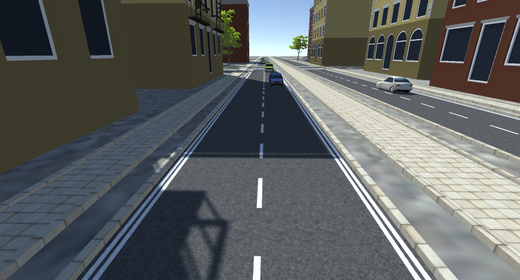centerstrip: (373, 85, 520, 139), (250, 75, 267, 280)
sidestripe: (81, 78, 245, 277), (283, 84, 433, 280)
